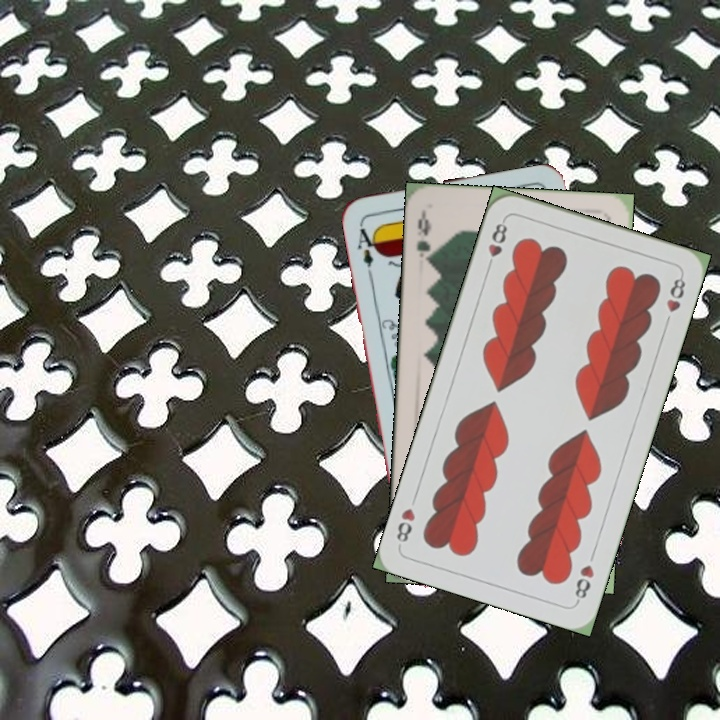EA: (353, 219, 381, 270)
G9: (413, 208, 437, 268)
H8: (483, 215, 510, 273), (571, 560, 597, 606)
